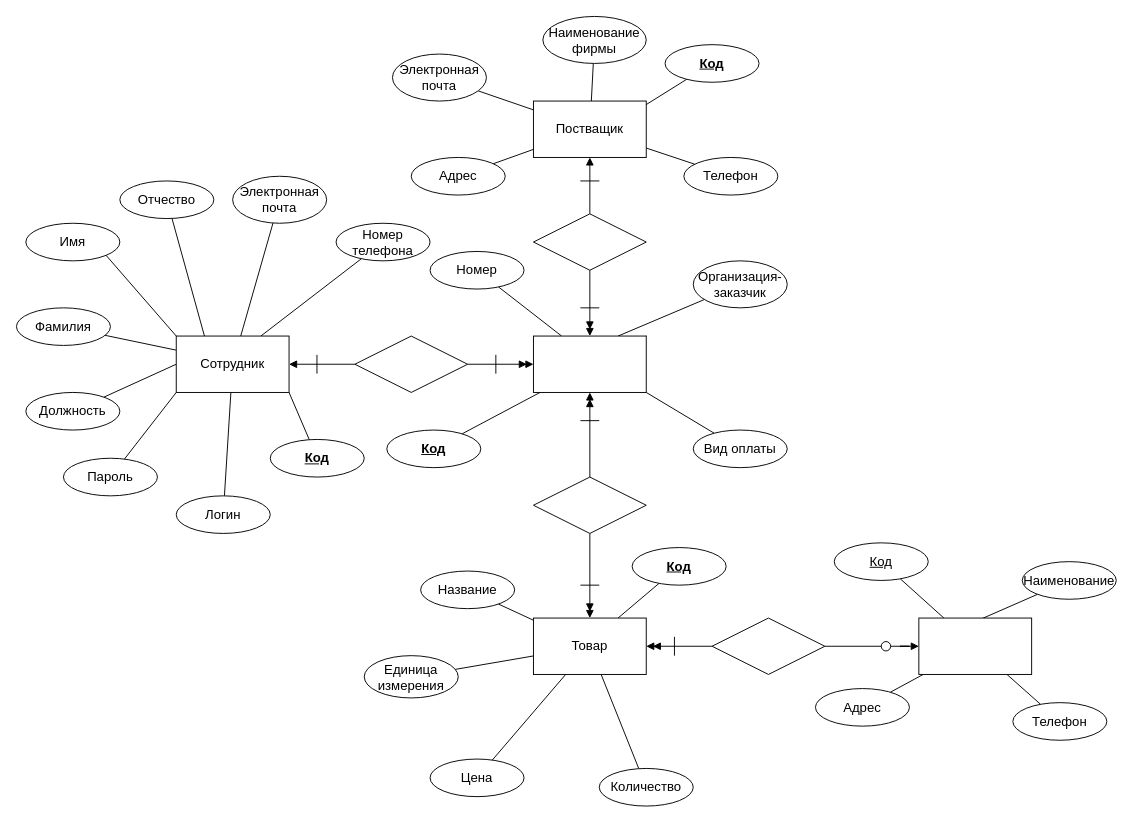
Image size: 1133x823. Some labels were removed from this diagram. Each missing label, with the centre of its shape:
"включает" goes at pixel 589 504.
"доставляет" goes at pixel 589 241.
"Заказ" goes at pixel 589 363.
"оформляет" goes at pixel 411 363.
"принимается" goes at pixel 768 645.
"Склад" goes at pixel 975 645.
